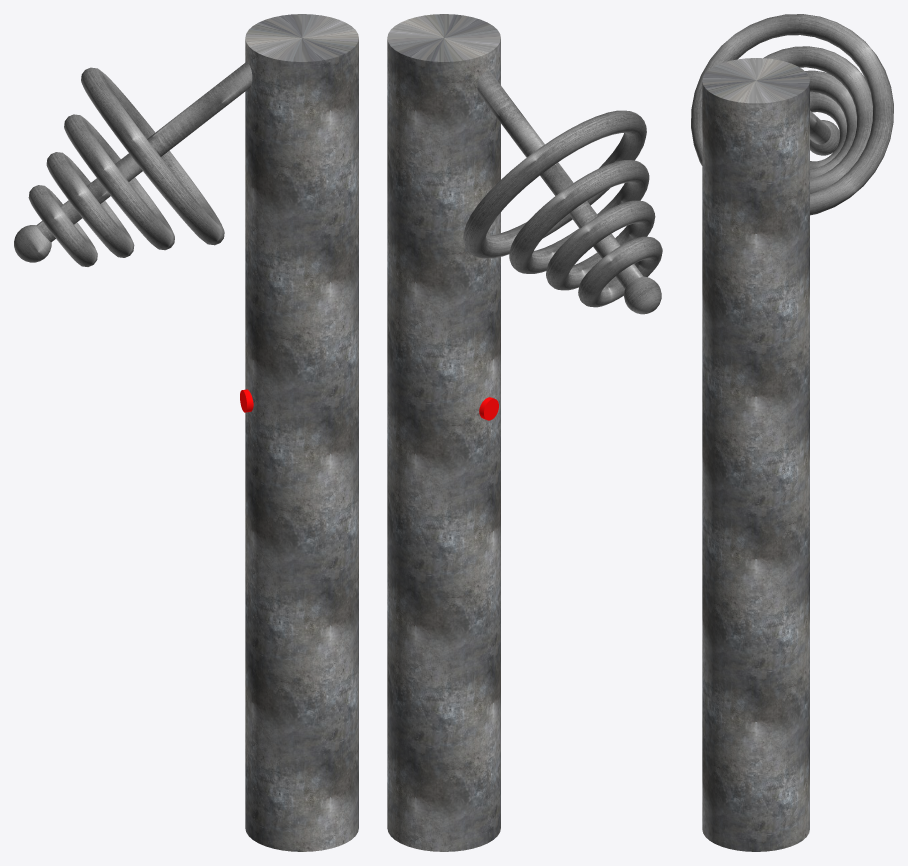
File: schrumpfstrahl.fbx
3 views of the same model, side by side, from view 1: azimuth 30°, elevation 25°; view 2: azimuth 150°, elevation 25°; view 3: azimuth 270°, elevation 25° (orthographic). The views are drawn at different scales.
Visible parts, largest first — view 1: mast, Ring, Ring_2, Zylinder, Ring_3, Ring_1, Kugel; view 2: mast, Ring, Ring_2, Ring_3, Zylinder, Ring_1, Kugel; view 3: mast, Ring, Ring_2, Ring_3, Ring_1, Kugel, Zylinder.
Boxes of the visible parts, box(x1,y1,x2,y2) form: mast: box(245, 14, 358, 851); Ring: box(81, 67, 224, 245); Ring_2: box(64, 114, 174, 250); Zylinder: box(36, 61, 252, 242); Ring_3: box(46, 152, 134, 257); Ring_1: box(28, 185, 97, 266); Kugel: box(14, 225, 51, 262); mast: box(387, 14, 500, 851); Ring: box(463, 110, 646, 258); Ring_2: box(509, 160, 649, 273); Ring_3: box(546, 200, 655, 290); Zylinder: box(477, 71, 643, 288); Ring_1: box(578, 236, 662, 307); Kugel: box(624, 276, 661, 314); mast: box(702, 58, 809, 851); Ring: box(691, 14, 893, 215); Ring_2: box(763, 46, 872, 193); Ring_3: box(805, 70, 856, 178); Ring_1: box(810, 91, 846, 168); Kugel: box(810, 120, 839, 155); Zylinder: box(810, 110, 830, 144).
Size of the model in its own units: 91.26 by 230 by 56.52.
8 materials, 7 textured.
